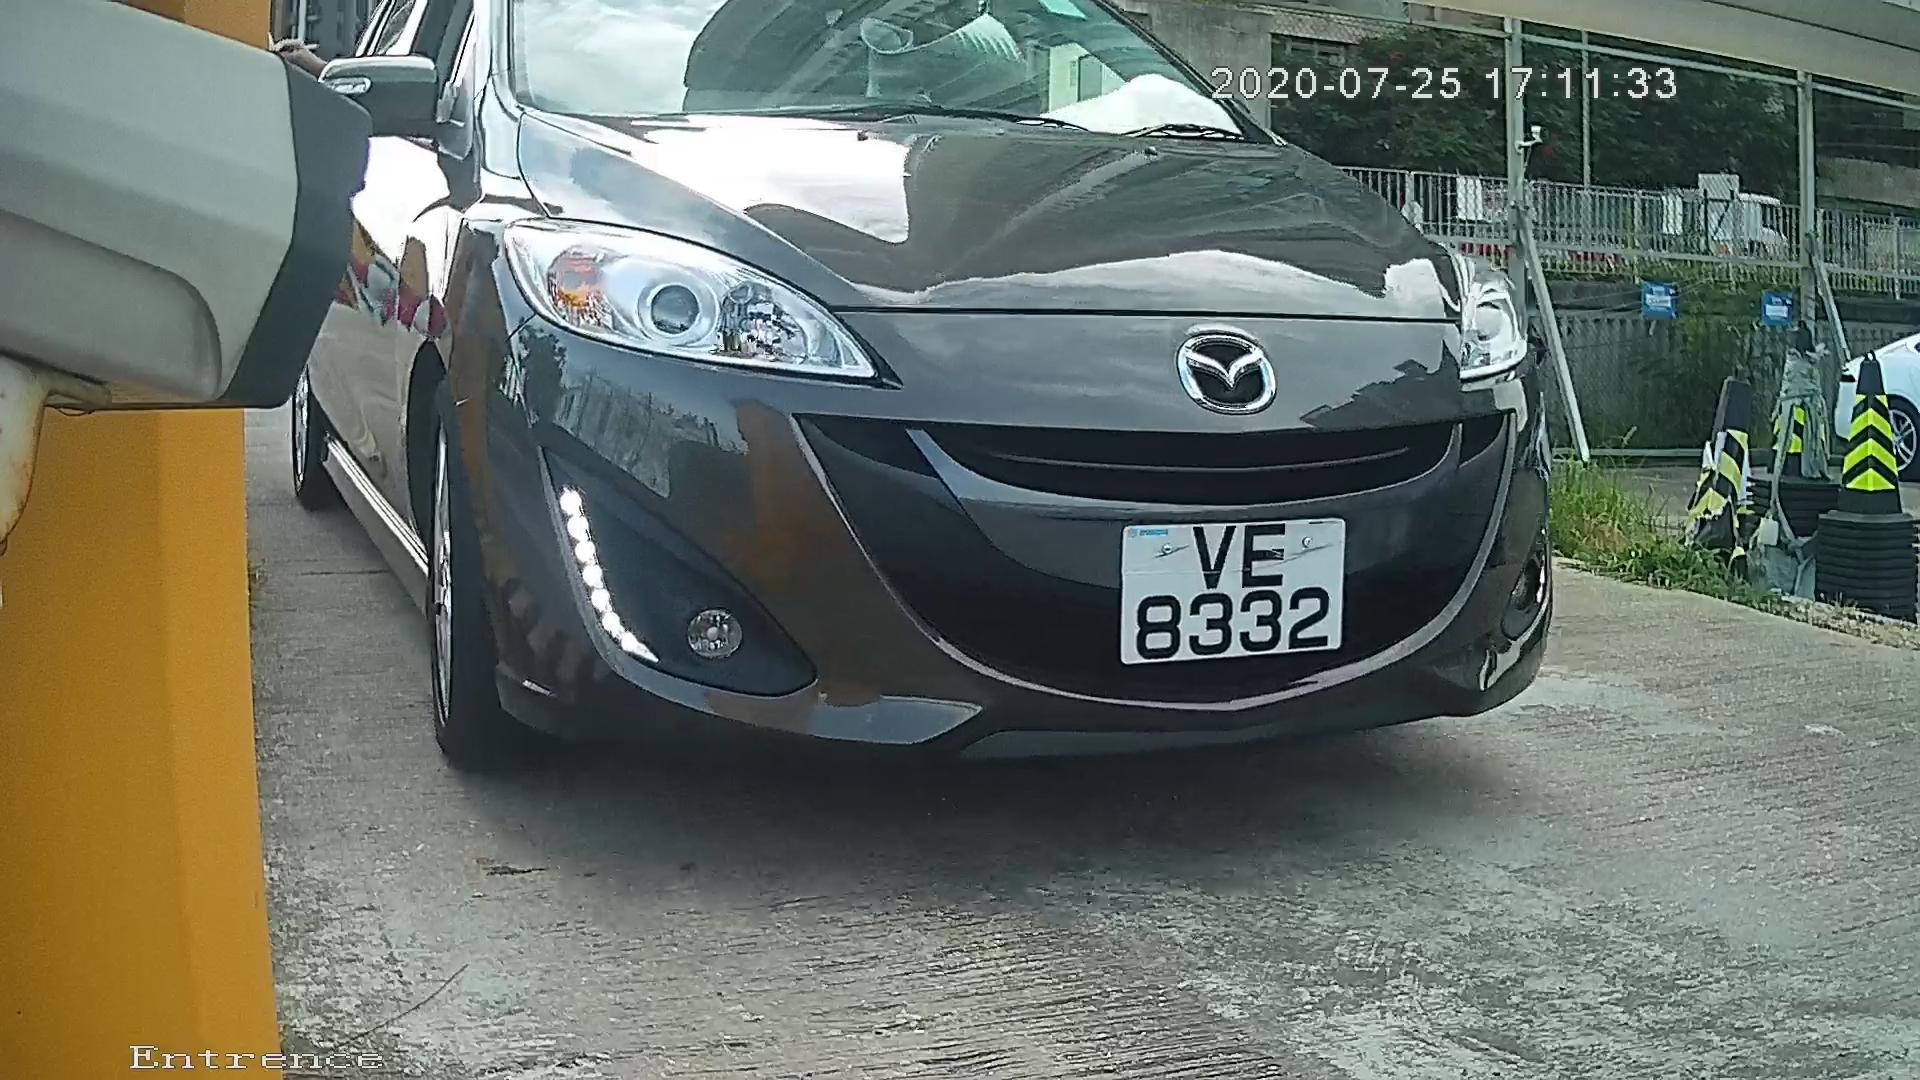privatecar: (258, 11, 1716, 829)
